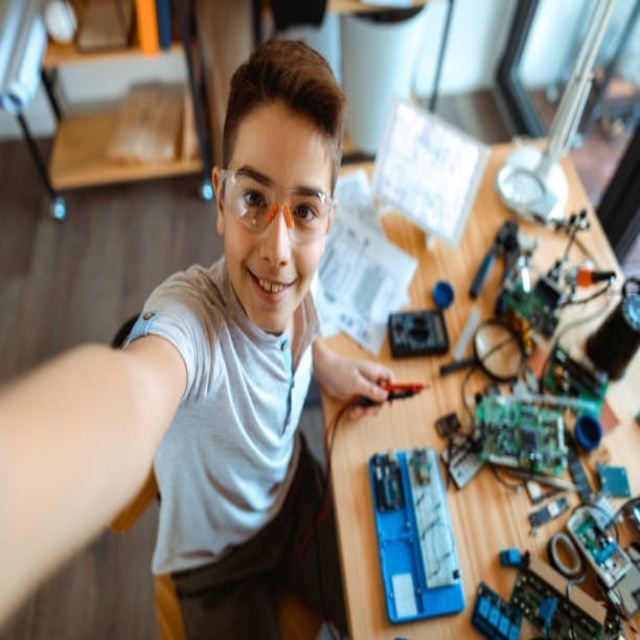Gafas: (220, 168, 337, 241)
Sin_guantes: (318, 342, 396, 410)
Sin_mascara: (238, 259, 303, 314)
